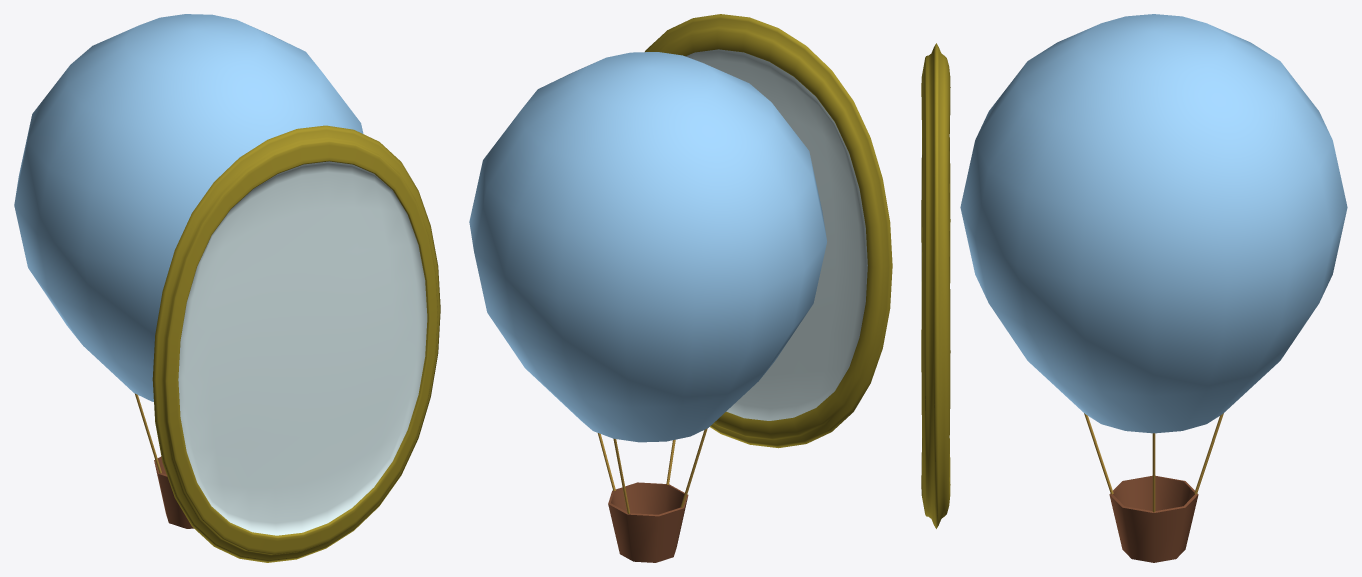
The model's file is Lv3_FB_Mirrorlian.FBX.
3 renders of one model, left to right at view 1: azimuth 30°, elevation 25°; view 2: azimuth 150°, elevation 25°; view 3: azimuth 270°, elevation 25°, orthographic. The views are drawn at different scales.
Parts seen in each view (by area): view 1: Box001, Sphere001, Cylinder001; view 2: Sphere001, Box001, Cylinder001, Line003; view 3: Sphere001, Box001, Cylinder001, Line003.
Boxes of the visible parts, left/top/right/bottom form: Box001: left=152, top=125, right=440, bottom=562; Sphere001: left=14, top=14, right=363, bottom=401; Cylinder001: left=154, top=456, right=193, bottom=528; Sphere001: left=469, top=52, right=826, bottom=442; Box001: left=645, top=14, right=892, bottom=448; Cylinder001: left=608, top=482, right=688, bottom=562; Line003: left=597, top=428, right=707, bottom=513; Sphere001: left=960, top=14, right=1347, bottom=433; Box001: left=921, top=43, right=950, bottom=528; Cylinder001: left=1109, top=475, right=1198, bottom=562; Line003: left=1084, top=413, right=1223, bottom=512.
Bounding box in the file's own units: 130 × 192 × 143.
